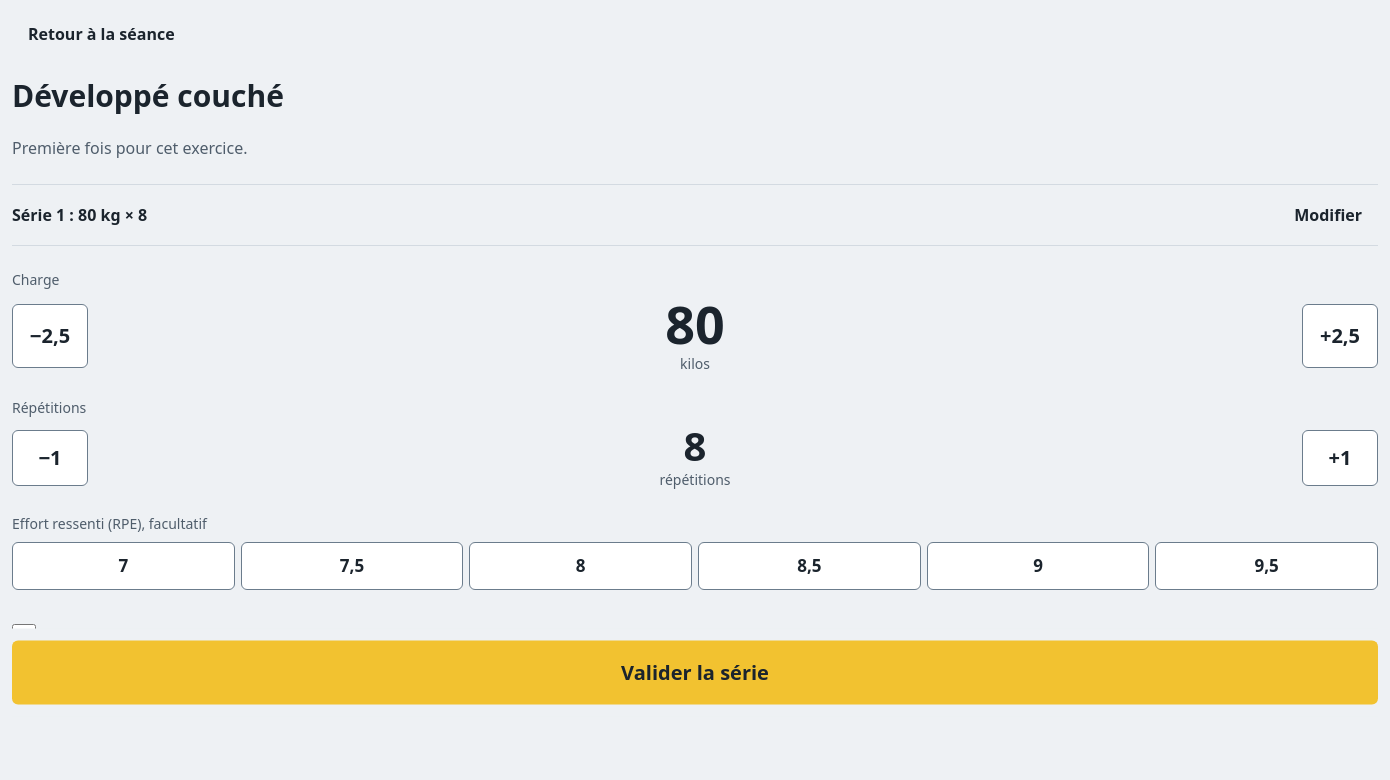
it: SetEntry › annule une modification sans rien envoyer ni lancer le repos
Step 1. Click the button with aria-label "Modifier la série 1" → (1328, 214), box [1278, 192, 1378, 236]
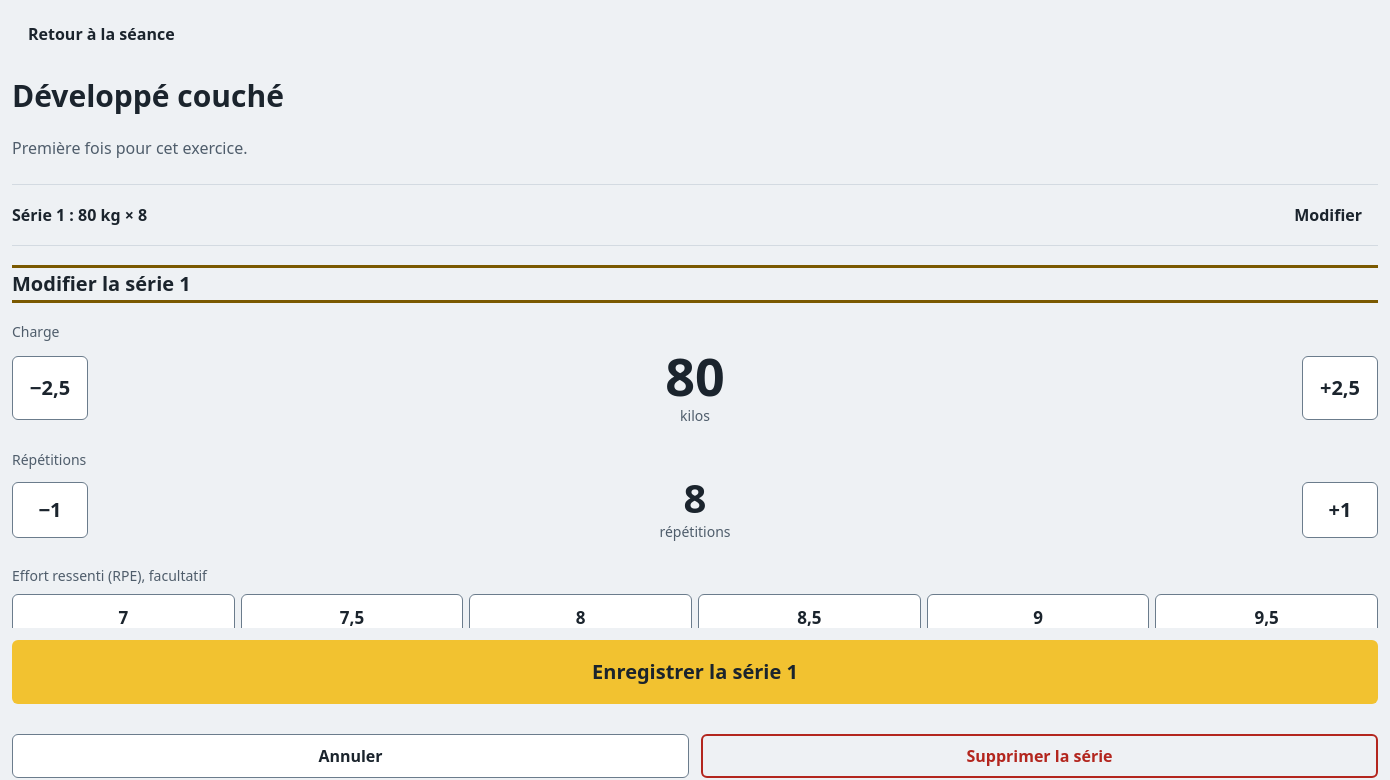
Step 2. Click the button "Annuler" → (350, 756), box [12, 734, 689, 778]
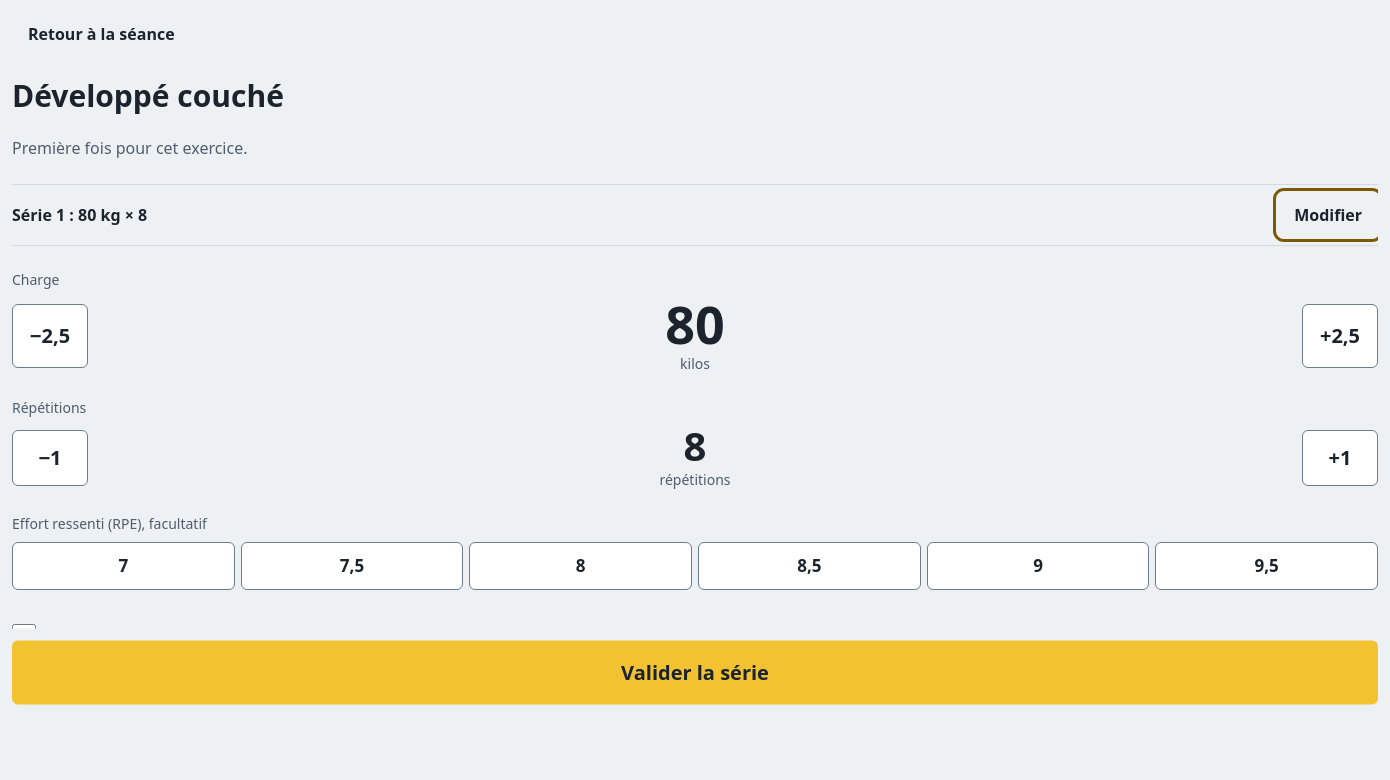
Now the button "Valider la série" is shown, box [12, 640, 1378, 704]
